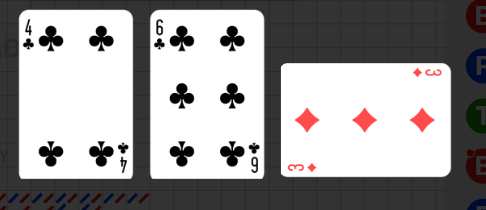4C: (21, 17, 35, 51)
6C: (246, 140, 260, 175)
6D: (410, 66, 442, 78)
